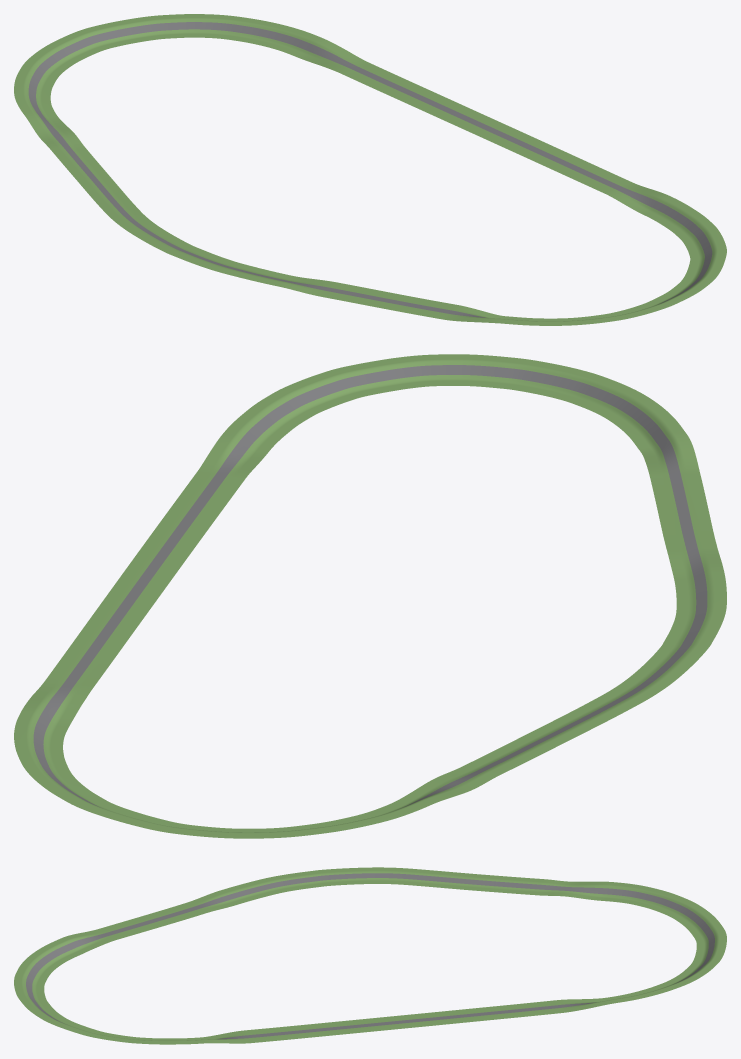
The model's file is road_mesh.glb.
3 views of the same model, one above another, from view 1: azimuth 30°, elevation 25°; view 2: azimuth 150°, elevation 25°; view 3: azimuth 270°, elevation 25° (orthographic). The views are drawn at different scales.
Parts seen in each view (by area): view 1: road_16, road_15, road_17, road_08, road_18, road_14, road_09, road_13, road_10, road_12, road_11, road_02 (+12 smaller); view 2: road_06, road_07, road_05, road_08, road_04, road_09, road_03, road_14, road_02, road_10, road_12, road_13 (+12 smaller); view 3: road_19, road_22, road_21, road_23, road_18, road_20, road_00, road_04, road_01, road_03, road_02, road_10 (+12 smaller).
Boxes of the visible parts, left/top/right/bottom form: road_16: left=138, top=14, right=234, bottom=40; road_15: left=225, top=16, right=317, bottom=55; road_17: left=58, top=18, right=149, bottom=57; road_08: left=648, top=199, right=719, bottom=244; road_18: left=17, top=39, right=85, bottom=86; road_14: left=294, top=36, right=379, bottom=78; road_09: left=590, top=175, right=675, bottom=216; road_13: left=353, top=68, right=439, bottom=105; road_10: left=530, top=148, right=616, bottom=186; road_12: left=412, top=95, right=498, bottom=132; road_11: left=472, top=122, right=557, bottom=159; road_02: left=325, top=283, right=419, bottom=312; road_06: left=403, top=354, right=531, bottom=390; road_07: left=292, top=357, right=415, bottom=409; road_05: left=516, top=360, right=636, bottom=414; road_08: left=226, top=384, right=325, bottom=448; road_04: left=600, top=391, right=690, bottom=454; road_09: left=188, top=430, right=270, bottom=490; road_03: left=642, top=440, right=705, bottom=498; road_14: left=20, top=672, right=99, bottom=728; road_02: left=655, top=496, right=716, bottom=548; road_10: left=154, top=484, right=236, bottom=537; road_12: left=86, top=577, right=167, bottom=631; road_13: left=52, top=625, right=133, bottom=678; road_19: left=598, top=881, right=674, bottom=910; road_22: left=388, top=867, right=462, bottom=889; road_21: left=457, top=873, right=533, bottom=894; road_23: left=314, top=867, right=389, bottom=886; road_18: left=655, top=894, right=718, bottom=932; road_20: left=528, top=878, right=602, bottom=900; road_00: left=244, top=870, right=322, bottom=897; road_04: left=23, top=936, right=87, bottom=972; road_01: left=185, top=883, right=259, bottom=913; road_03: left=68, top=921, right=143, bottom=951; road_02: left=126, top=903, right=202, bottom=931; road_10: left=263, top=1022, right=339, bottom=1041.
Size of the model in its own units: 1055 by 22.01 by 1776.
